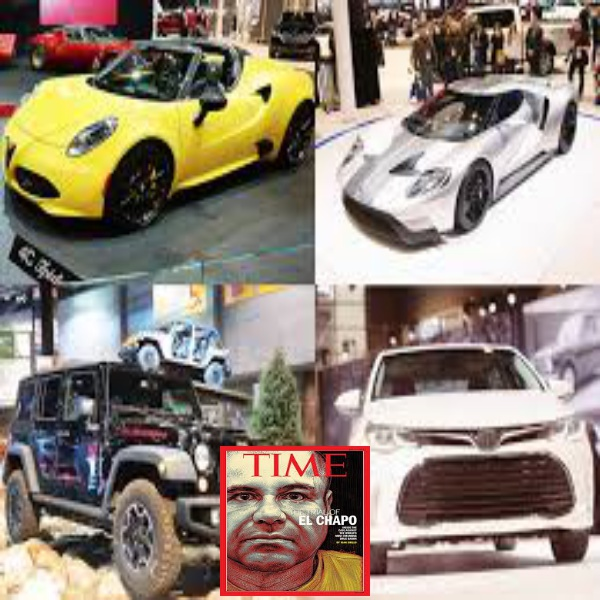time_cover: (215, 437, 376, 597)
